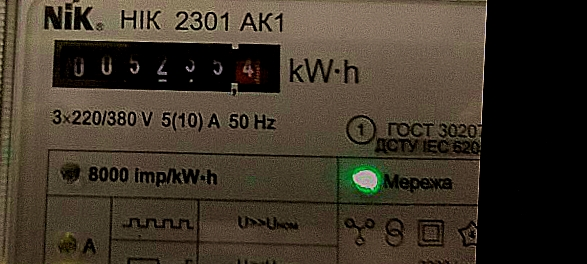0: (69, 52, 85, 77), (97, 51, 113, 75)
2: (152, 49, 170, 76)
3: (180, 47, 198, 73)
4: (237, 50, 257, 80)
5: (207, 48, 225, 76), (125, 49, 141, 75)
screen: (37, 22, 290, 105)
